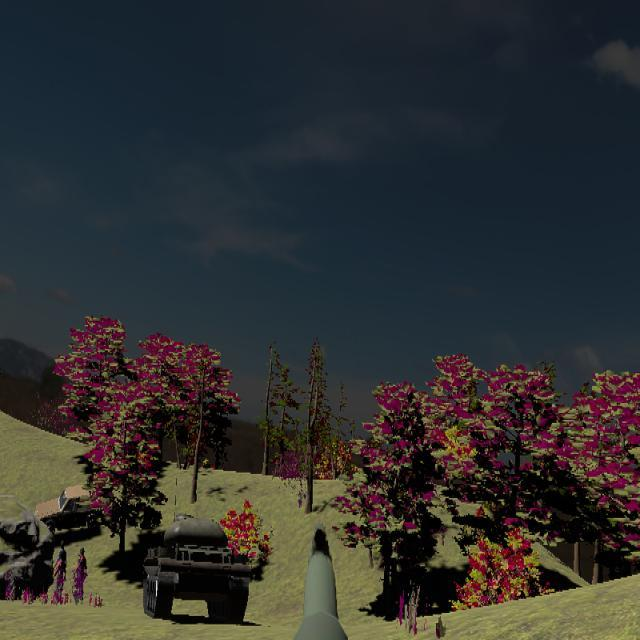Tank: (142, 513, 250, 622)
car: (35, 485, 104, 535)
